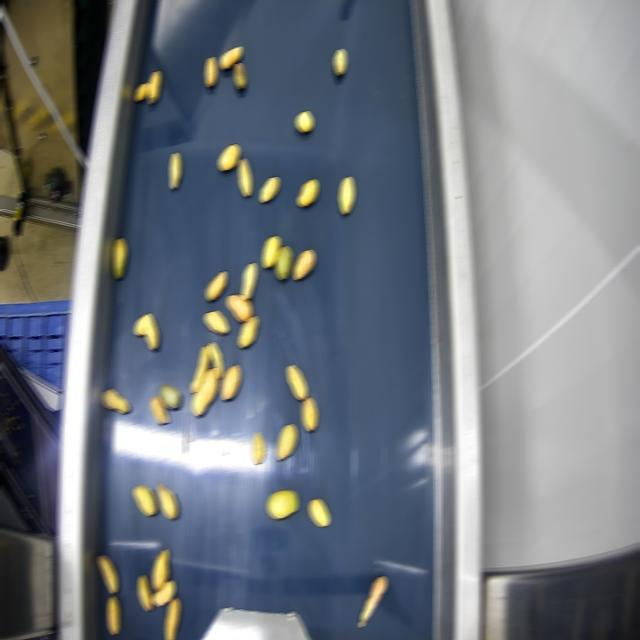Baby Potato: (360, 576, 385, 627), (191, 369, 218, 415), (266, 490, 297, 519), (190, 346, 209, 391), (134, 314, 157, 349), (156, 483, 177, 519), (275, 424, 296, 459), (97, 555, 116, 593), (151, 549, 168, 590), (133, 485, 156, 515), (226, 295, 251, 322), (101, 388, 128, 413), (287, 365, 306, 399), (220, 365, 239, 399), (293, 249, 314, 279), (308, 498, 329, 527), (238, 316, 257, 348), (338, 176, 353, 215), (206, 271, 225, 301), (274, 246, 291, 279), (153, 580, 174, 606), (218, 144, 239, 170), (262, 235, 279, 267), (241, 263, 256, 299), (113, 238, 126, 279), (166, 598, 179, 639), (298, 179, 317, 207), (204, 311, 227, 334), (137, 575, 152, 610), (149, 396, 168, 423), (301, 397, 316, 431), (238, 158, 251, 197), (159, 384, 180, 408), (259, 176, 278, 202), (220, 47, 241, 69), (209, 342, 222, 377), (107, 596, 118, 635), (146, 71, 159, 103), (169, 152, 180, 189), (251, 432, 264, 463), (295, 111, 312, 132), (205, 57, 216, 87), (334, 48, 345, 75), (234, 63, 245, 89), (134, 82, 149, 101)
